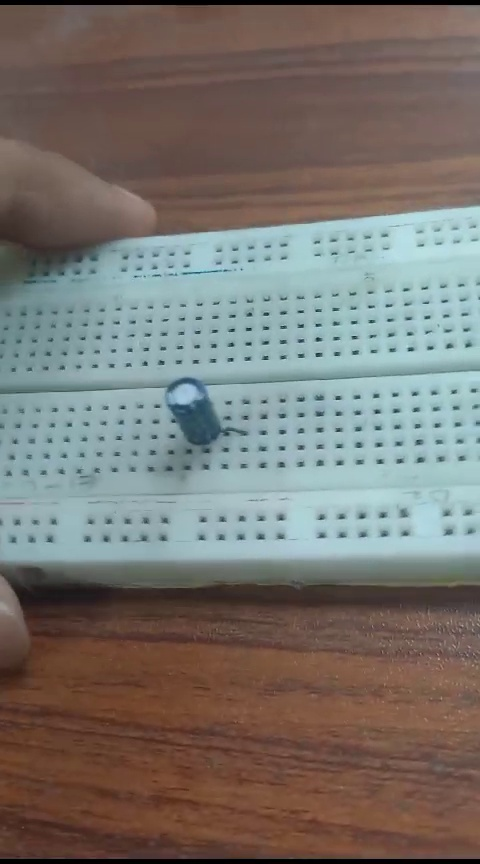capacitor: (153, 375, 226, 452)
